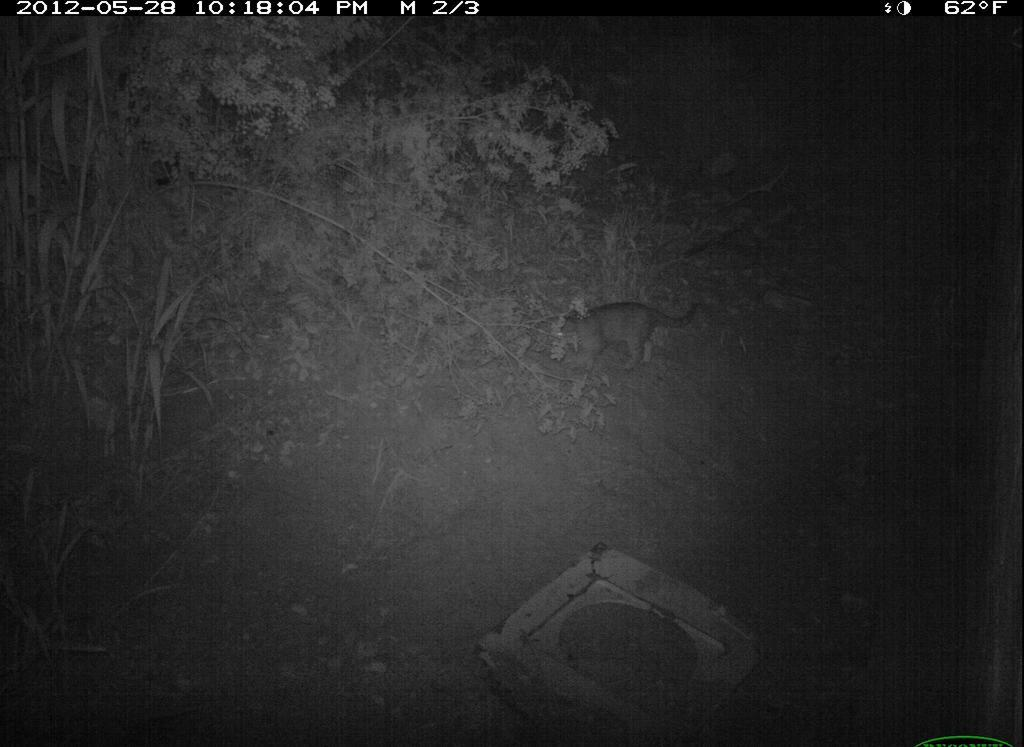cat: (548, 289, 707, 390)
